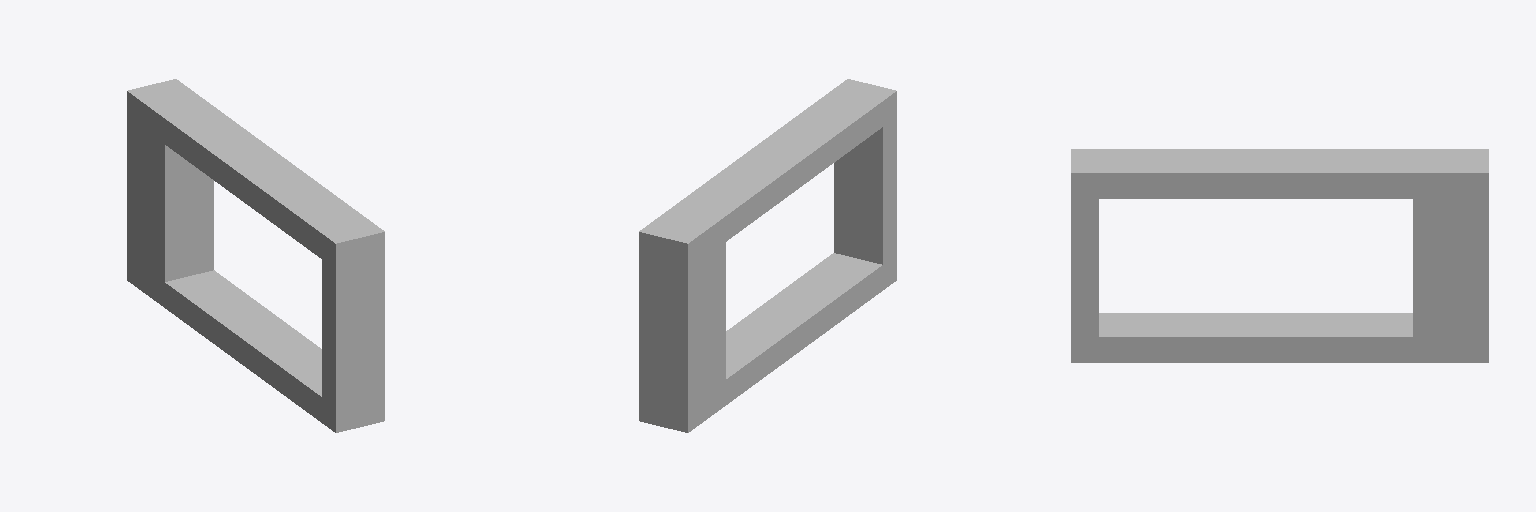
The model's file is porta_salone.obj.
3 renders of one model, left to right at view 1: azimuth 30°, elevation 25°; view 2: azimuth 150°, elevation 25°; view 3: azimuth 270°, elevation 25°, orthographic.
Bounding box in the file's own units: 0.3 × 1.1 × 2.2.